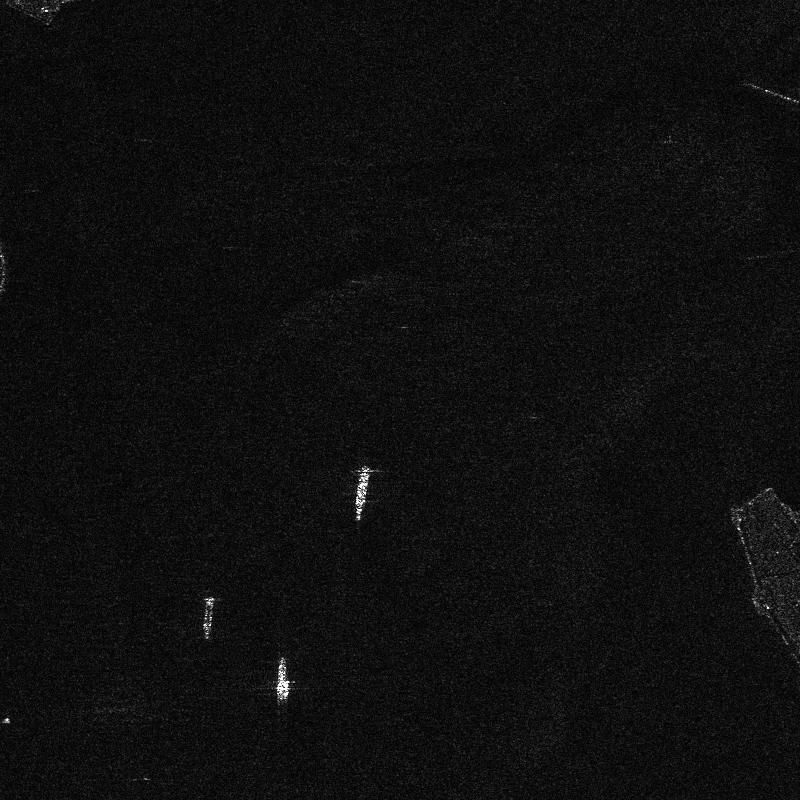ship: (355, 465, 370, 521), (276, 657, 289, 701), (202, 596, 214, 638)
